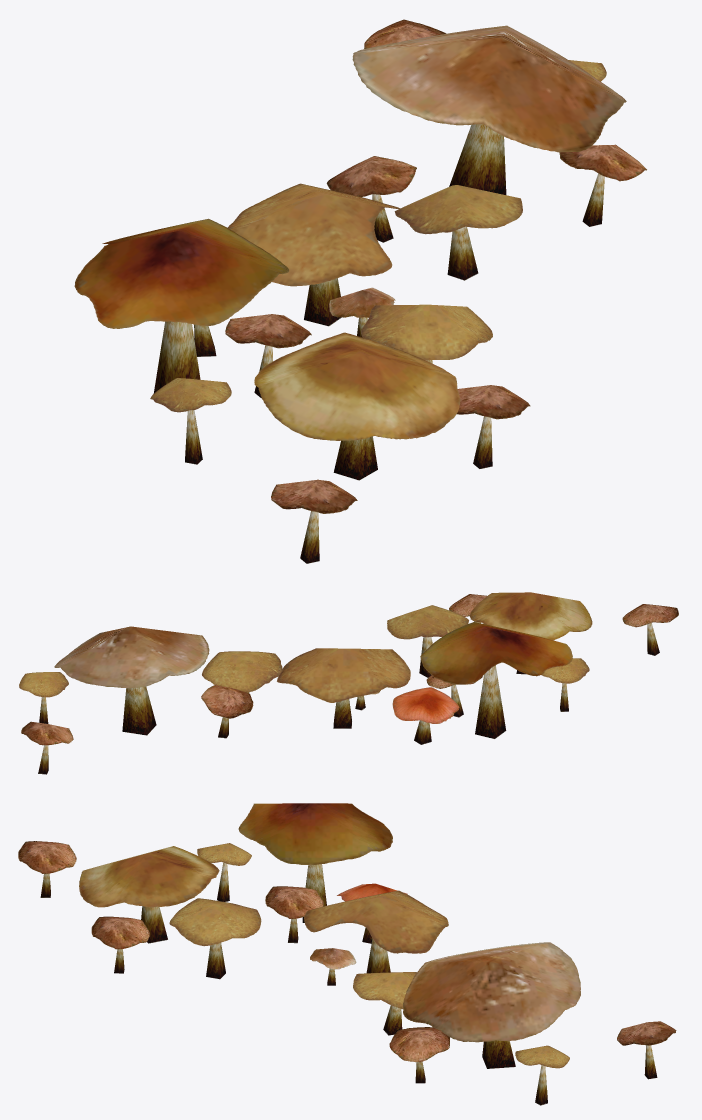
The model's file is fngi_mushroom_clump_a2_l0.fbx.
3 renders of one model, top to bottom at view 1: azimuth 30°, elevation 25°; view 2: azimuth 150°, elevation 25°; view 3: azimuth 270°, elevation 25°, orthographic. The views are drawn at different scales.
Visible parts, largest first — view 1: mesh_node; view 2: mesh_node; view 3: mesh_node.
Boxes of the visible parts, x1,y1,x2,y2 form: mesh_node: (74,19,646,563); mesh_node: (19,592,678,774); mesh_node: (18,803,676,1105).
Bounding box in the file's own units: 1.39 × 0.3129 × 1.67.
